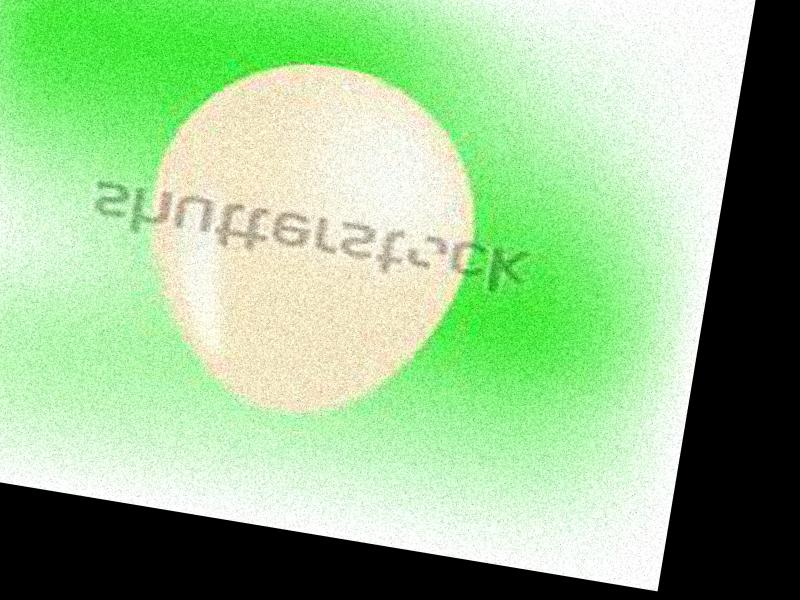Eggs: (123, 42, 498, 437)
